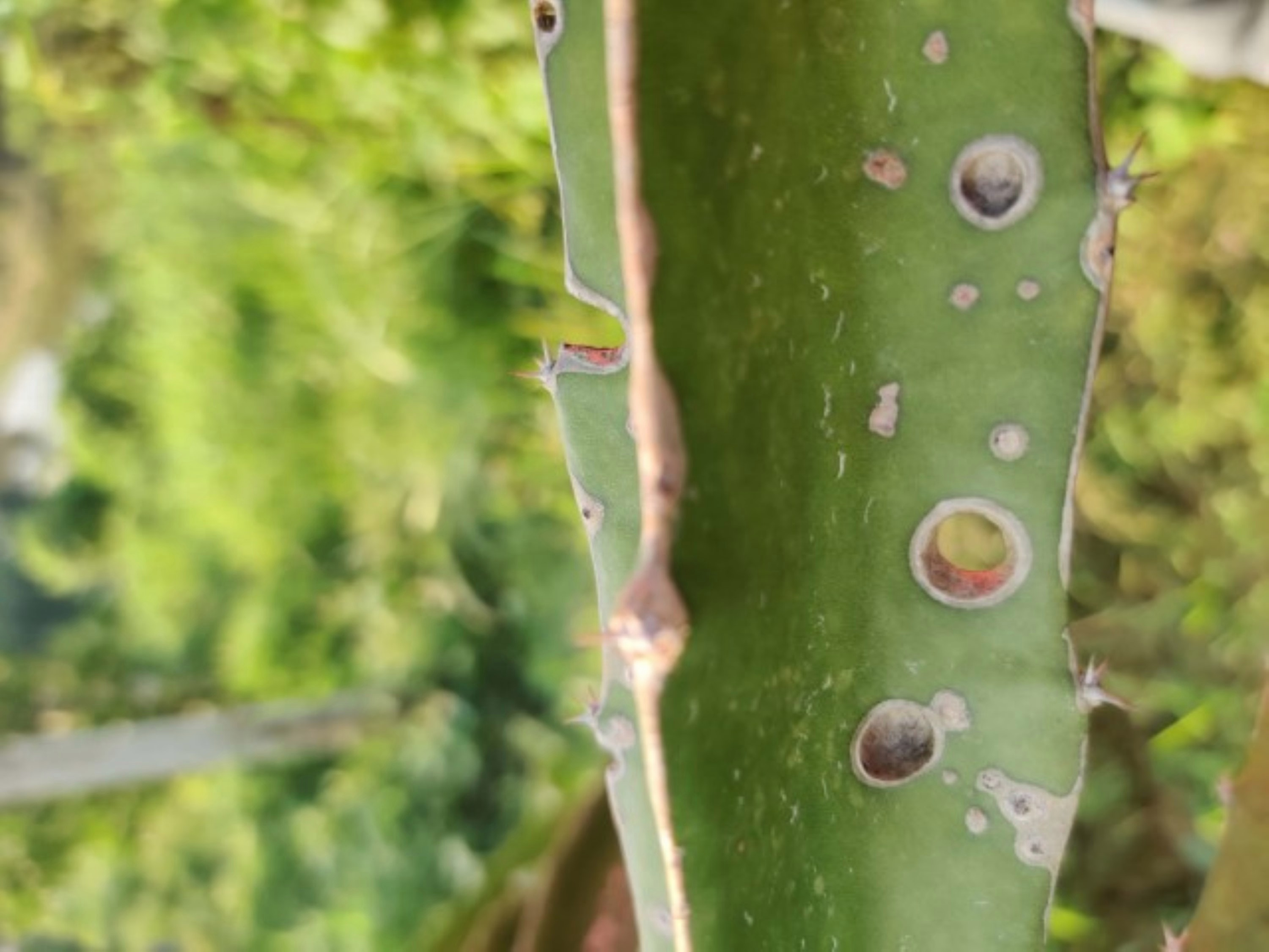stemcanker: (759, 11, 1125, 893)
